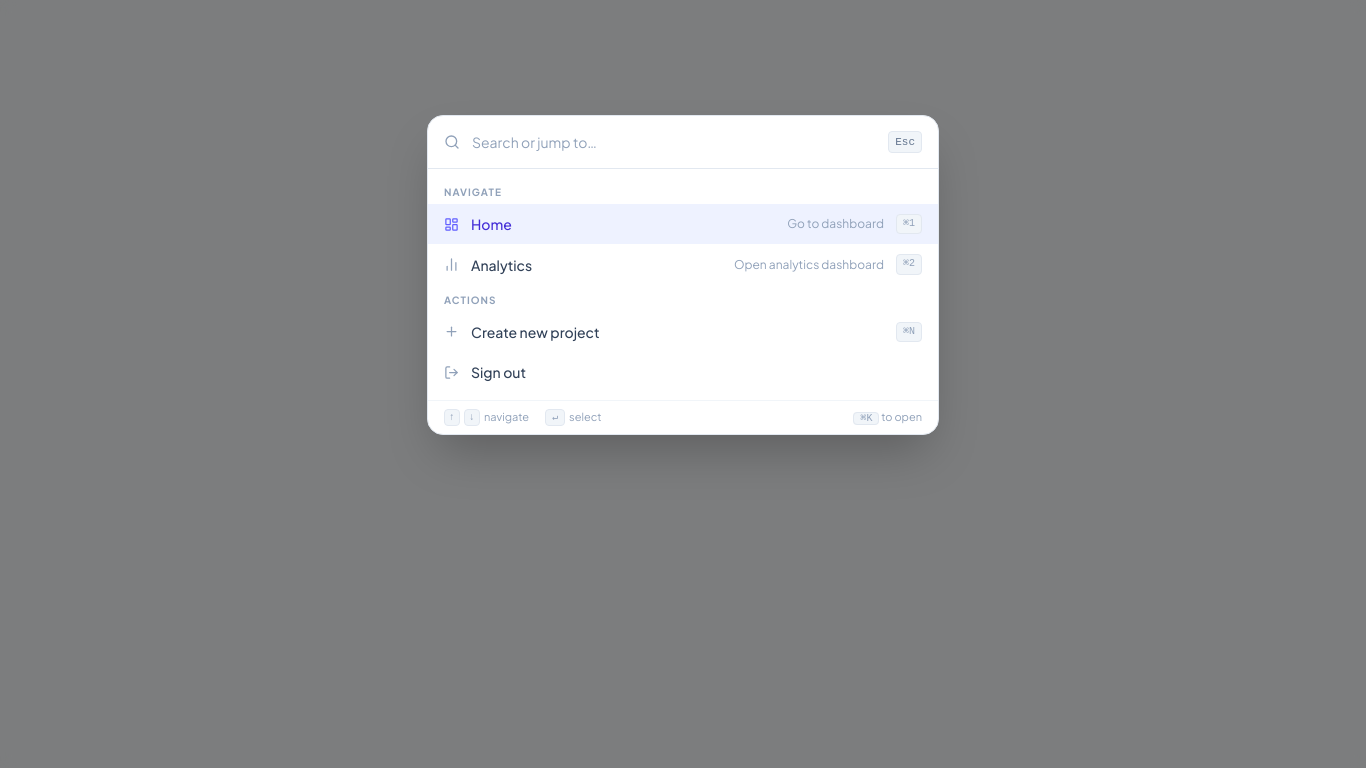
CommandPalette › shows "No results" when query matches nothing
Type "zzznomatch999" into the field with placeholder "Search or jump to…" at coordinates (674, 142), box x1=472 y1=116 x2=876 y2=168
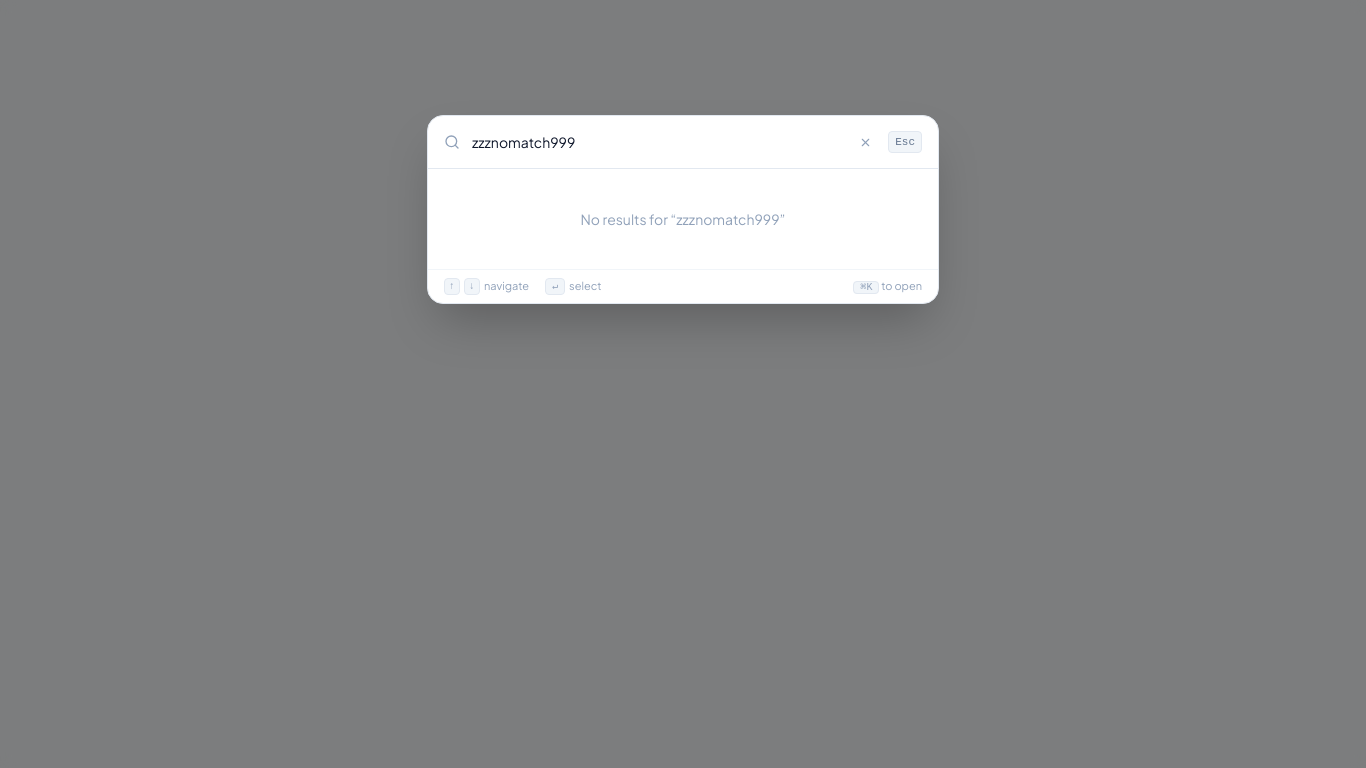
Expected: the text "No results for “zzznomatch999”" is shown, x1=580 y1=210 x2=785 y2=228
